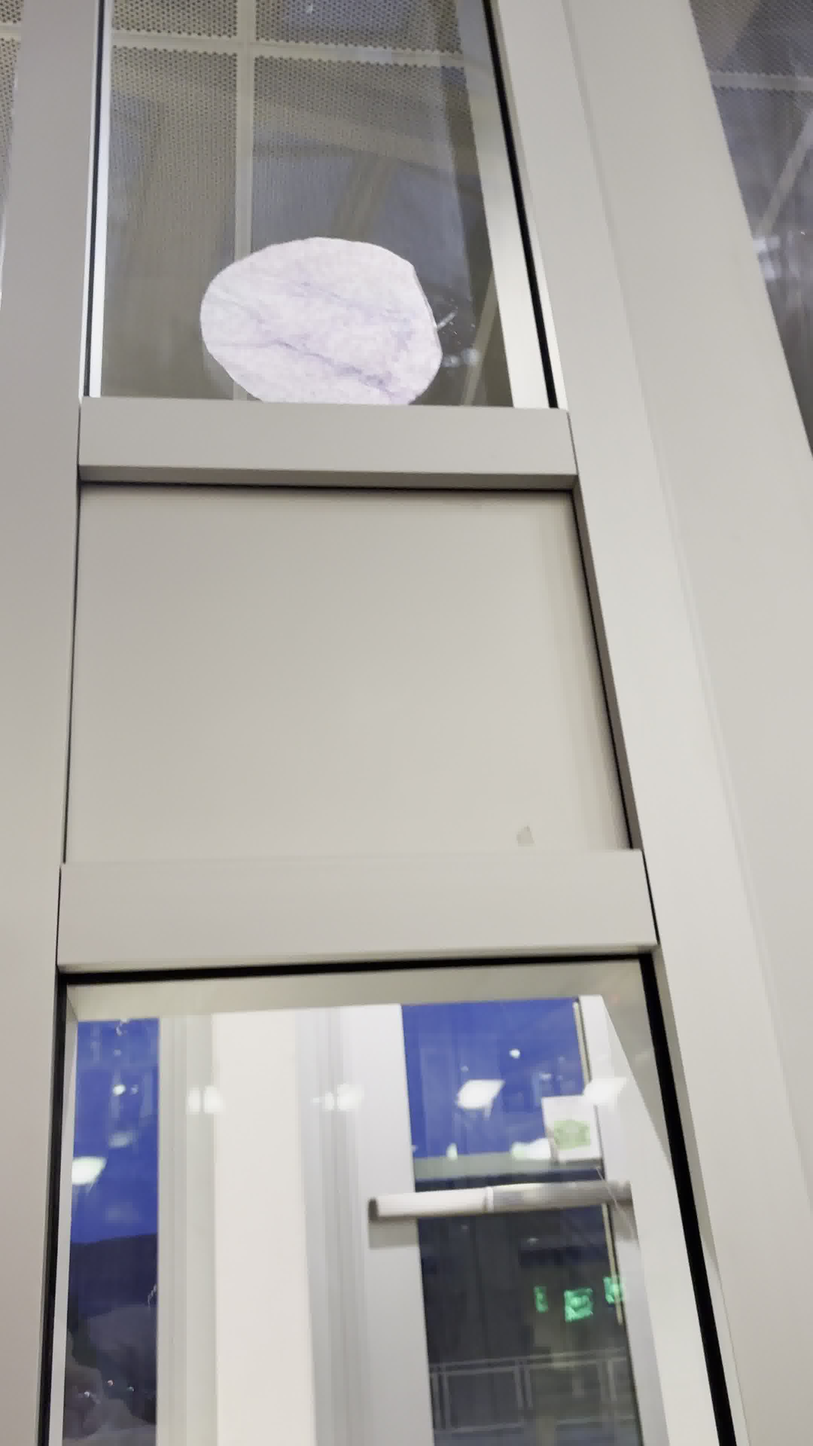Target: (195, 234, 446, 418)
